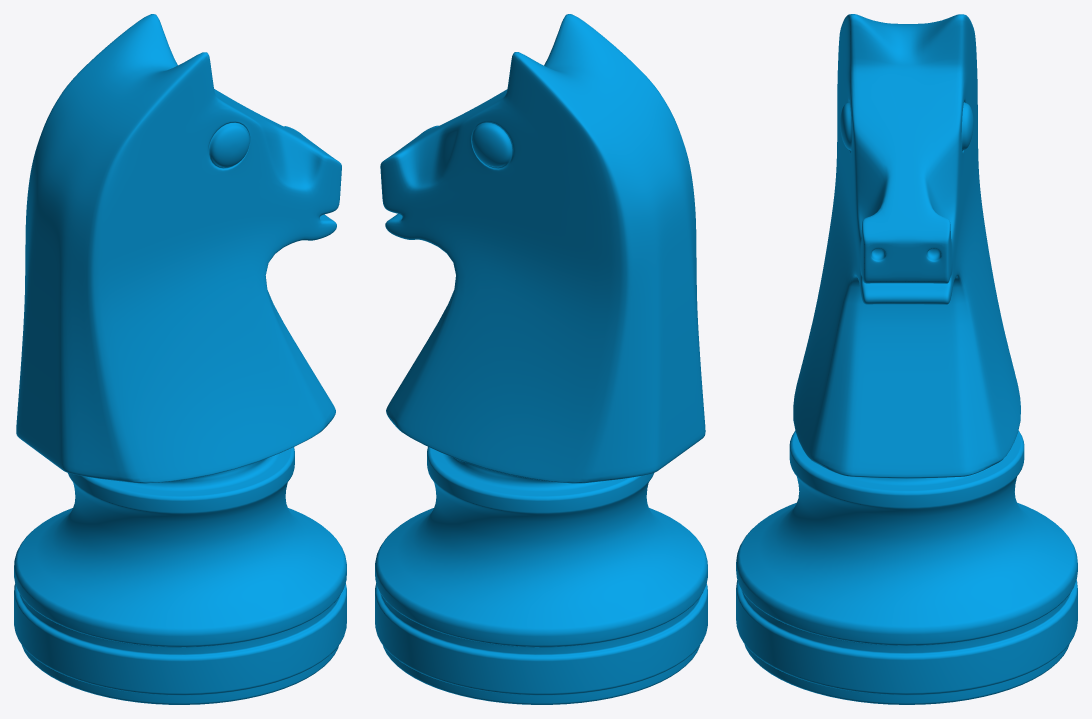
File: blue_horse.glb
3 renders of one model, left to right at view 1: azimuth 30°, elevation 25°; view 2: azimuth 150°, elevation 25°; view 3: azimuth 270°, elevation 25°, orthographic. The views are drawn at different scales.
Visible parts, largest first — view 1: Chess_piece_Horse_1_Black_HP__3_; view 2: Chess_piece_Horse_1_Black_HP__3_; view 3: Chess_piece_Horse_1_Black_HP__3_.
Part boxes in pixels (<box>): Chess_piece_Horse_1_Black_HP__3_: <box>14,14,346,704</box>; Chess_piece_Horse_1_Black_HP__3_: <box>375,14,707,704</box>; Chess_piece_Horse_1_Black_HP__3_: <box>736,14,1077,704</box>.
Size of the model in its own units: 0.0519 by 0.1041 by 0.0519.
